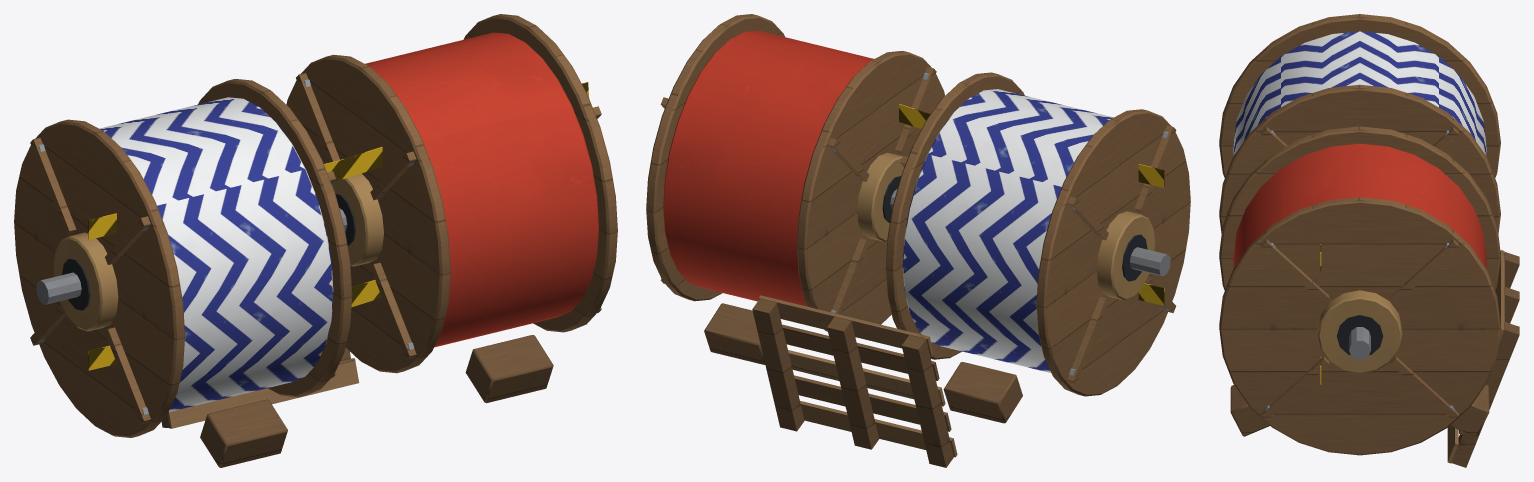
The model's file is spooler_reel_barricade.glb.
3 views of the same model, side by side, from view 1: azimuth 30°, elevation 25°; view 2: azimuth 150°, elevation 25°; view 3: azimuth 270°, elevation 25° (orthographic). The views are drawn at different scales.
Visible parts, largest first — view 1: spooler_reel_barricade; view 2: spooler_reel_barricade; view 3: spooler_reel_barricade.
Part boxes in pixels (x1,y1,x2,y2): spooler_reel_barricade: (14,14,617,467); spooler_reel_barricade: (646,14,1190,467); spooler_reel_barricade: (1219,14,1519,467).
Bounding box in the file's own units: 3.5 × 2.27 × 1.92.
Materials: 13 (13 with a texture image).
